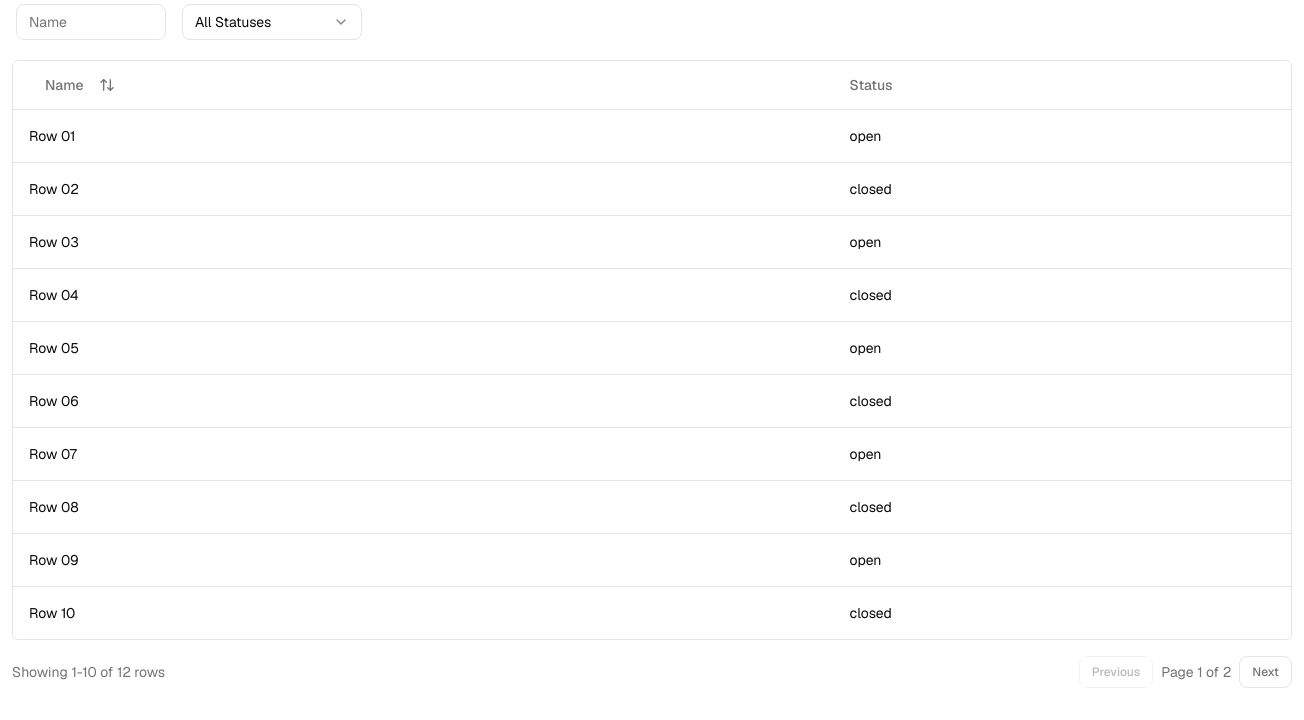
Test: DataTable › shows the empty message across every column
Type "zzz" into the field named "Filter by name" at (91, 22), box [16,4,166,40]
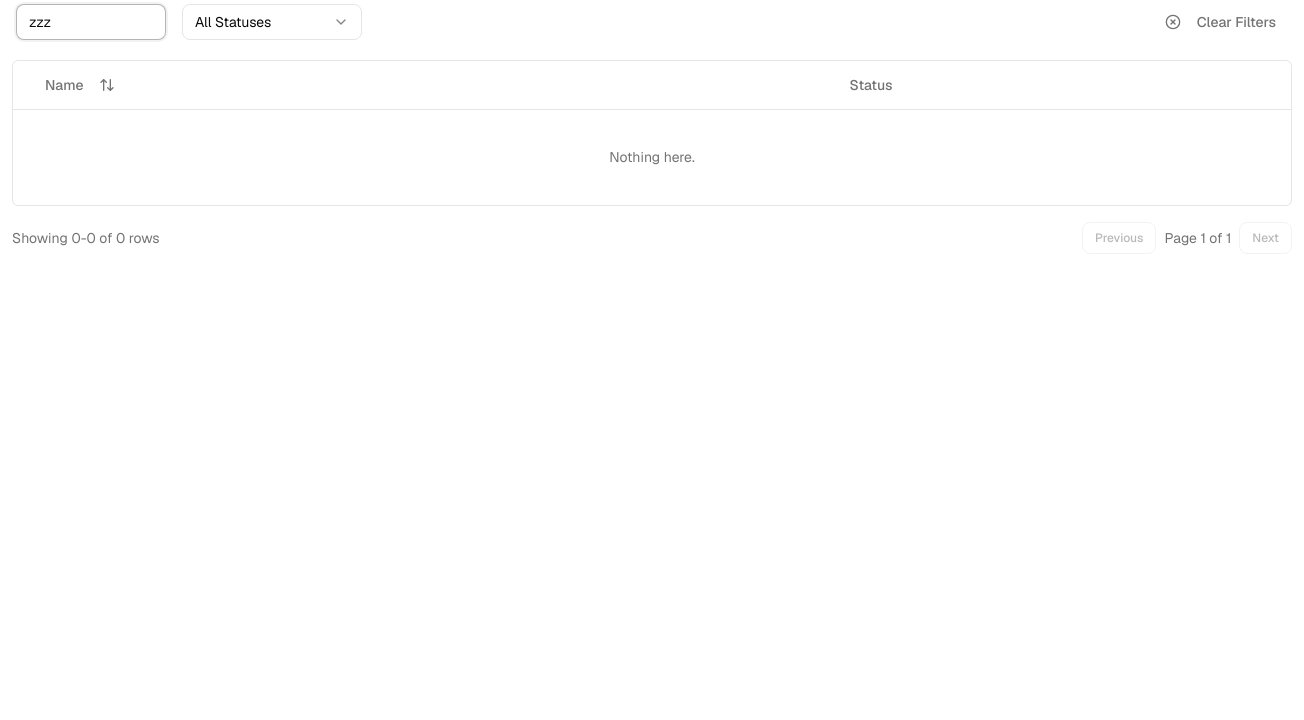
Result: the text "Showing 0-0 of 0 rows" is shown at [12,228,160,248]
